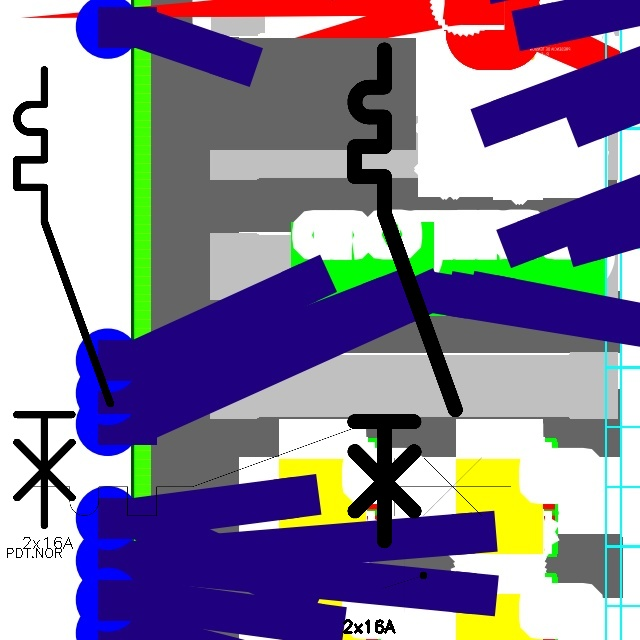interruptor_termomagnetico: (342, 37, 468, 553), (21, 405, 522, 528), (5, 58, 122, 537)
